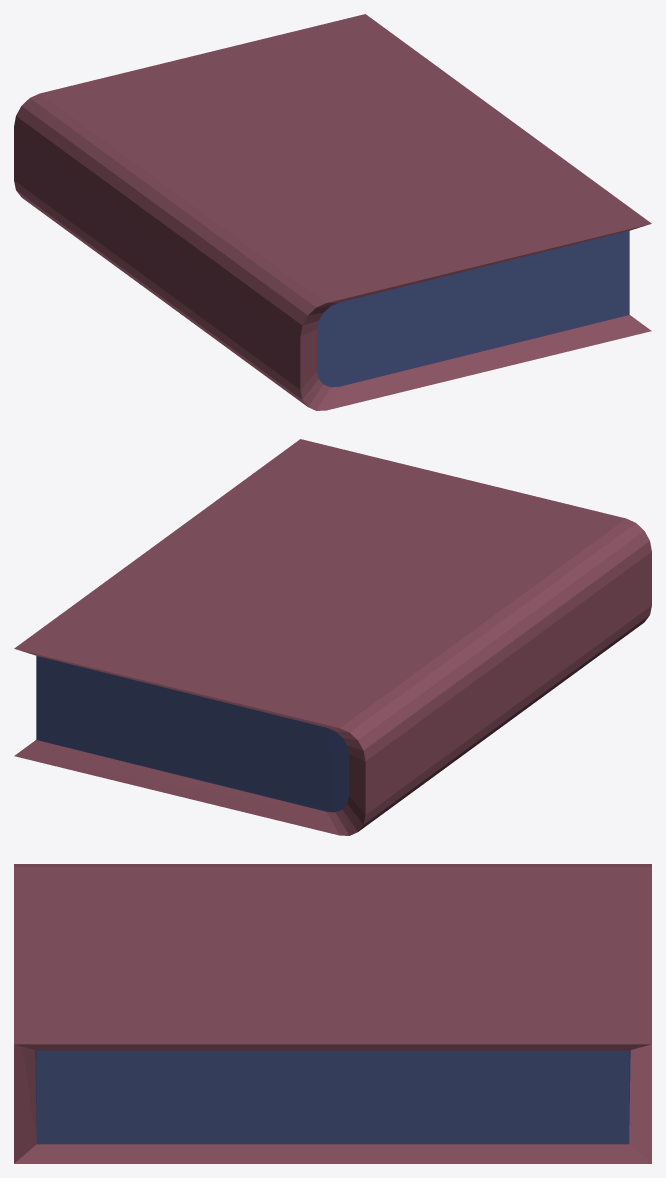
The model's file is book.fbx.
The picture shows the model from 3 angles, top to bottom: view 1: azimuth 30°, elevation 25°; view 2: azimuth 150°, elevation 25°; view 3: azimuth 270°, elevation 25°; orthographic projection. The views are drawn at different scales.
Parts seen in each view (by area): view 1: book; view 2: book; view 3: book.
Boxes of the visible parts, x1,y1,x2,y2 form: book: [14, 14, 651, 410]; book: [14, 439, 651, 835]; book: [14, 864, 651, 1163].
Size of the model in its own units: 0.4562 by 0.1332 by 0.644.
